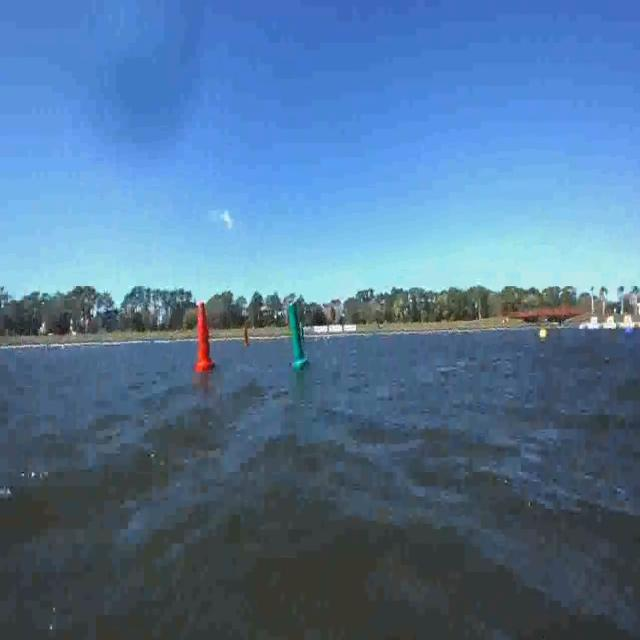black-buoy: (624, 322, 636, 339)
green-column-buoy: (287, 304, 308, 370)
red-column-buoy: (194, 302, 214, 374), (241, 328, 248, 348)
yellow-buoy: (538, 326, 547, 340)
